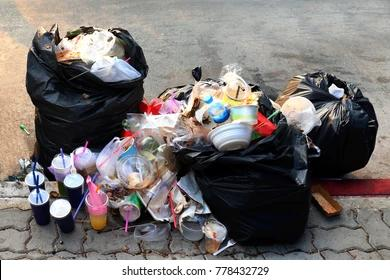garbage: (16, 17, 390, 260)
